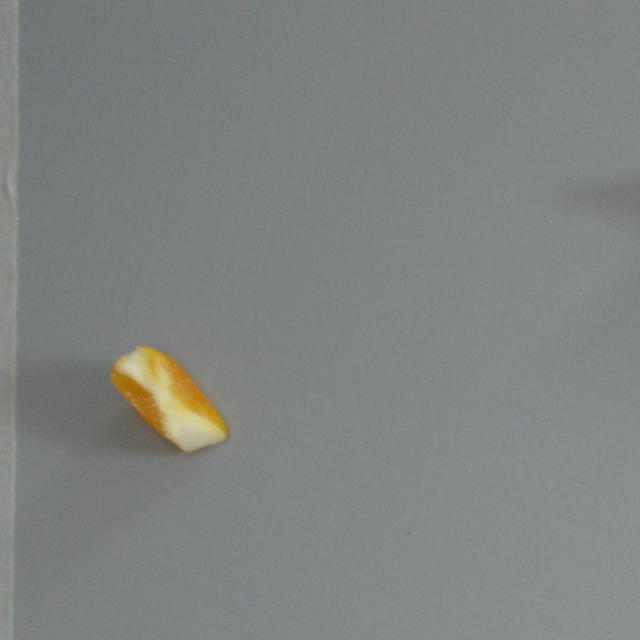dañado: (105, 340, 232, 456)
